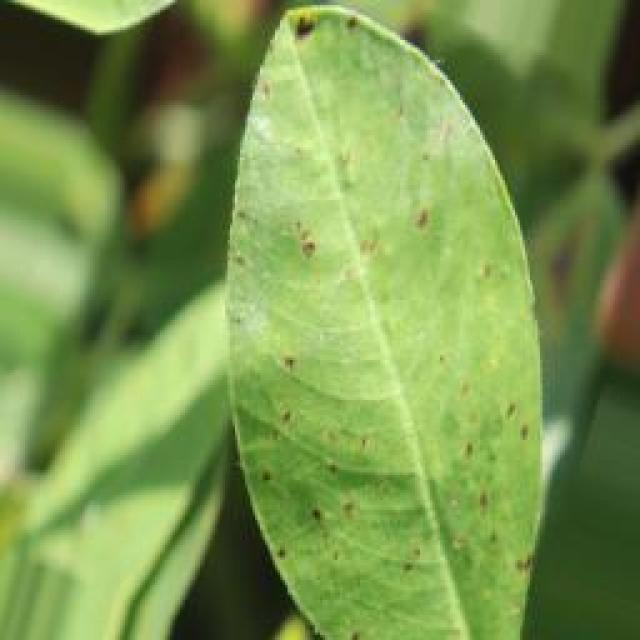Sigatoka: (248, 343, 412, 566), (408, 335, 536, 577), (383, 174, 508, 297), (268, 0, 383, 96), (268, 208, 364, 314)
